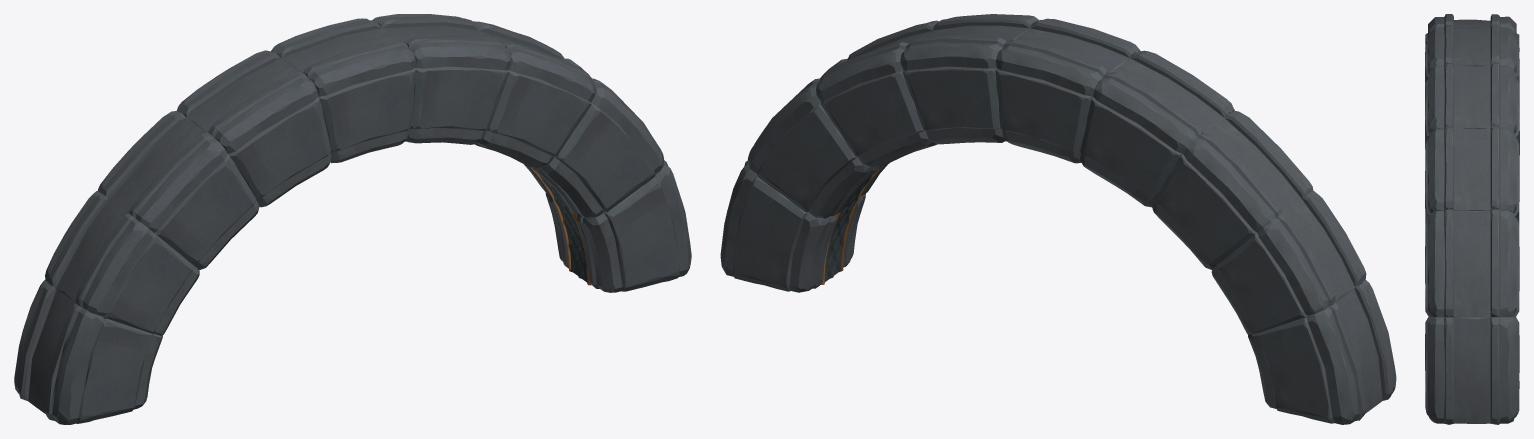
File: GreatAscension_Zone_A_Block_A.fbx
3 views of the same model, side by side, from view 1: azimuth 30°, elevation 25°; view 2: azimuth 150°, elevation 25°; view 3: azimuth 270°, elevation 25° (orthographic). The views are drawn at different scales.
Visible parts, largest first — view 1: GreatAscension_Zone_A_Block_A; view 2: GreatAscension_Zone_A_Block_A; view 3: GreatAscension_Zone_A_Block_A.
Boxes of the visible parts, x1,y1,x2,y2 form: GreatAscension_Zone_A_Block_A: [14, 14, 691, 424]; GreatAscension_Zone_A_Block_A: [720, 14, 1396, 424]; GreatAscension_Zone_A_Block_A: [1425, 14, 1519, 424].
Bounding box in the file's own units: 1654 × 731 × 250.
4 materials, 4 textured.
